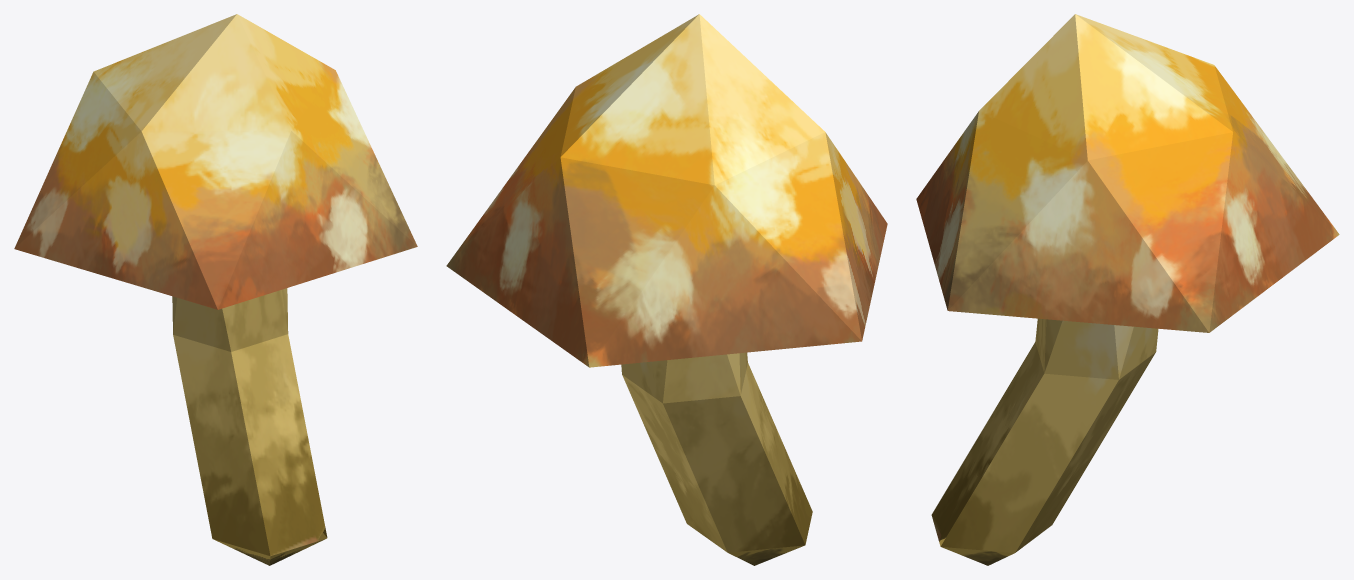
The model's file is mushroom03.fbx.
3 views of the same model, side by side, from view 1: azimuth 30°, elevation 25°; view 2: azimuth 150°, elevation 25°; view 3: azimuth 270°, elevation 25° (orthographic). The views are drawn at different scales.
Visible parts, largest first — view 1: mushroom03; view 2: mushroom03; view 3: mushroom03.
Part boxes in pixels (box(x1,y1,x2,y2)): mushroom03: box(14, 14, 417, 565); mushroom03: box(446, 14, 887, 565); mushroom03: box(916, 14, 1339, 565).
Size of the model in its own units: 108 by 154 by 106.
1 material, 1 textured.
